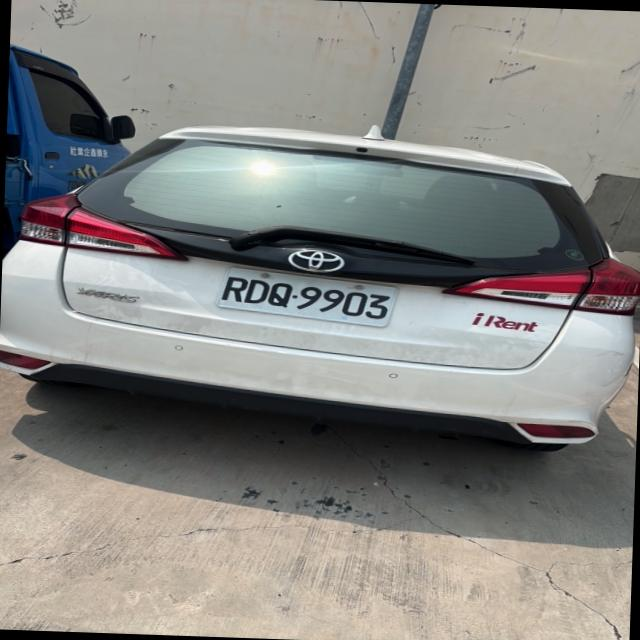license plate: (216, 268, 396, 326)
